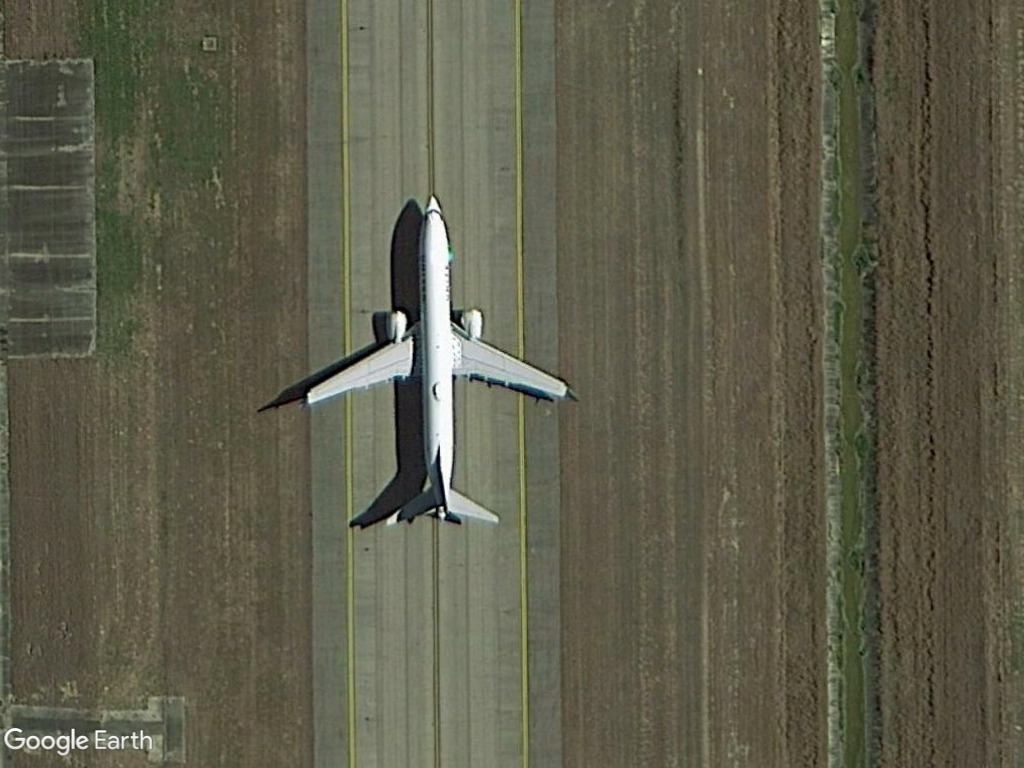airliner: (291, 190, 577, 533)
